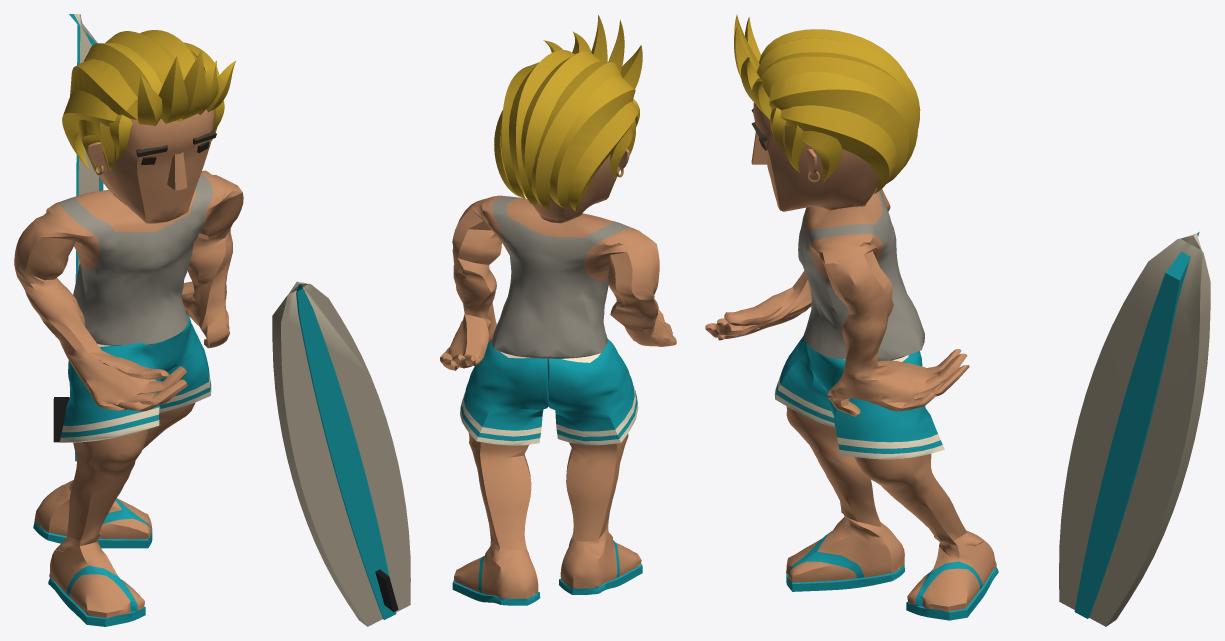
File: av-surfista-fim-tarde.glb
3 views of the same model, side by side, from view 1: azimuth 30°, elevation 25°; view 2: azimuth 150°, elevation 25°; view 3: azimuth 270°, elevation 25° (orthographic). The views are drawn at different scales.
Parts seen in each view (by area): view 1: Ad_prancha_surfe_0_0; view 2: Ad_prancha_surfe_0_0; view 3: Ad_prancha_surfe_0_0.
Boxes of the visible parts, <box> form: Ad_prancha_surfe_0_0: <box>14,14,243,626</box>; Ad_prancha_surfe_0_0: <box>272,15,676,626</box>; Ad_prancha_surfe_0_0: <box>705,14,1210,626</box>.
Bounding box in the file's own units: 0.6534 × 1.42 × 1.12.
1 material, 1 textured.
